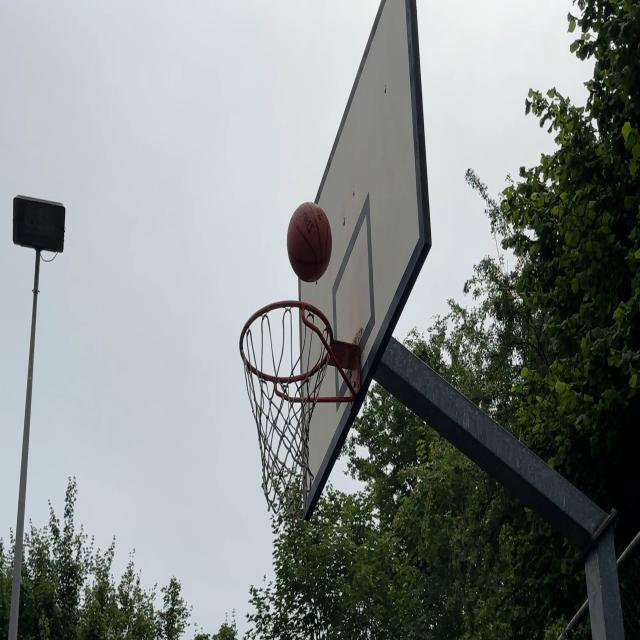Basketball: (287, 202, 331, 283)
